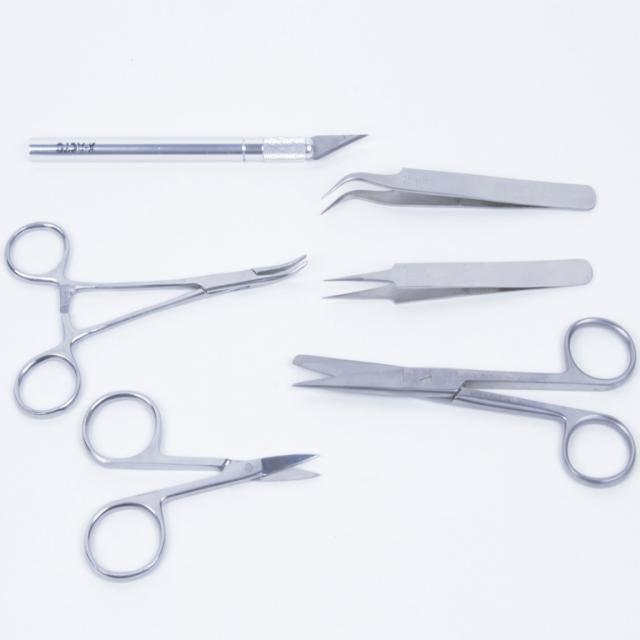scissors: (5, 221, 307, 417), (292, 316, 636, 487), (81, 389, 321, 580)
